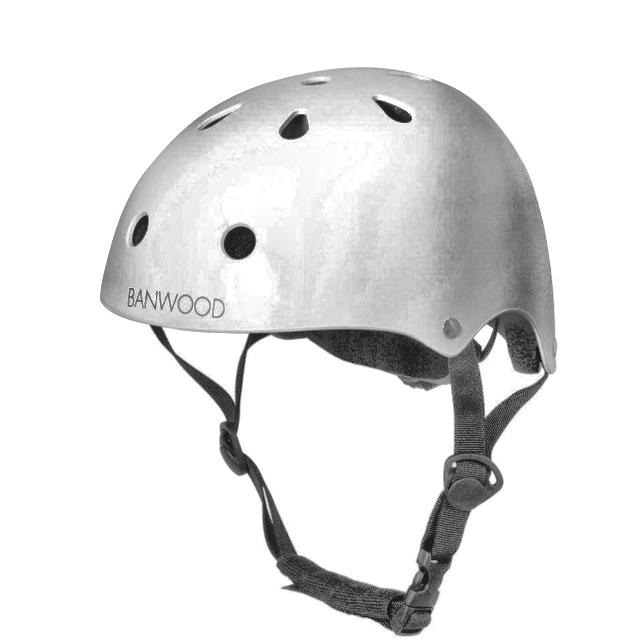Helmet: (95, 63, 558, 640)
